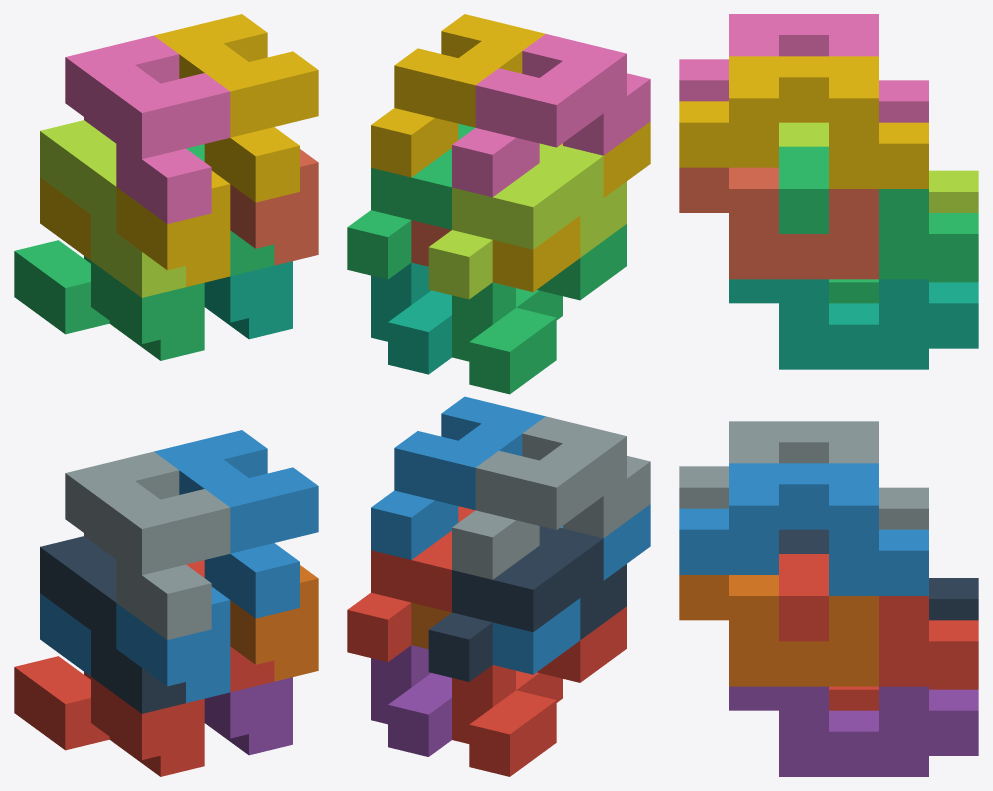
Rendered from tiling.obj.
The picture shows the model from 3 angles, left to right: view 1: azimuth 30°, elevation 25°; view 2: azimuth 150°, elevation 25°; view 3: azimuth 270°, elevation 25°; orthographic projection. The views are drawn at different scales.
Visible parts, largest first — view 1: copy_2_domain_2, copy_2_domain_4, copy_2_domain_6, copy_2_domain_8, copy_1_domain_1, copy_1_domain_3, copy_2_domain_1, copy_2_domain_3, copy_1_domain_2, copy_1_domain_4, copy_1_domain_6, copy_1_domain_8 (+4 smaller); view 2: copy_2_domain_4, copy_2_domain_2, copy_2_domain_3, copy_2_domain_1, copy_2_domain_8, copy_2_domain_6, copy_1_domain_3, copy_1_domain_1, copy_2_domain_7, copy_2_domain_5, copy_1_domain_5, copy_1_domain_7 (+4 smaller); view 3: copy_2_domain_6, copy_2_domain_8, copy_1_domain_5, copy_1_domain_7, copy_1_domain_8, copy_1_domain_6, copy_2_domain_5, copy_2_domain_7, copy_2_domain_2, copy_2_domain_4, copy_2_domain_1, copy_2_domain_3 (+2 smaller).
Part boxes in pixels (box(x1,y1,x2,y2)): copy_2_domain_2: box(65, 451, 230, 639); copy_2_domain_4: box(65, 35, 230, 223); copy_2_domain_6: box(154, 430, 318, 618); copy_2_domain_8: box(154, 14, 318, 202); copy_1_domain_1: box(14, 656, 204, 776); copy_1_domain_3: box(14, 240, 204, 360); copy_2_domain_1: box(40, 536, 185, 713); copy_2_domain_3: box(40, 120, 185, 297); copy_1_domain_2: box(40, 587, 230, 702); copy_1_domain_4: box(40, 171, 230, 286); copy_1_domain_6: box(230, 565, 318, 681); copy_1_domain_8: box(230, 149, 318, 265); copy_2_domain_4: box(452, 34, 650, 197); copy_2_domain_2: box(452, 416, 650, 579); copy_2_domain_3: box(428, 143, 626, 299); copy_2_domain_1: box(428, 526, 626, 681); copy_2_domain_8: box(371, 14, 545, 177); copy_2_domain_6: box(371, 396, 545, 559); copy_1_domain_3: box(452, 224, 626, 394); copy_1_domain_1: box(452, 606, 626, 776); copy_2_domain_7: box(347, 123, 475, 279); copy_2_domain_5: box(347, 506, 474, 661); copy_1_domain_5: box(371, 645, 451, 756); copy_1_domain_7: box(371, 262, 451, 374); copy_2_domain_6: box(679, 463, 928, 595); copy_2_domain_8: box(679, 56, 928, 188); copy_1_domain_5: box(729, 686, 978, 776); copy_1_domain_7: box(729, 279, 978, 369); copy_1_domain_8: box(679, 167, 878, 279); copy_1_domain_6: box(679, 575, 878, 686); copy_2_domain_5: box(779, 554, 978, 686); copy_2_domain_7: box(779, 146, 978, 279); copy_2_domain_2: box(679, 421, 928, 529); copy_2_domain_4: box(679, 14, 928, 122); copy_2_domain_1: box(779, 529, 978, 620); copy_2_domain_3: box(779, 122, 978, 212).
Size of the model in its own units: 4 by 15 by 6.
